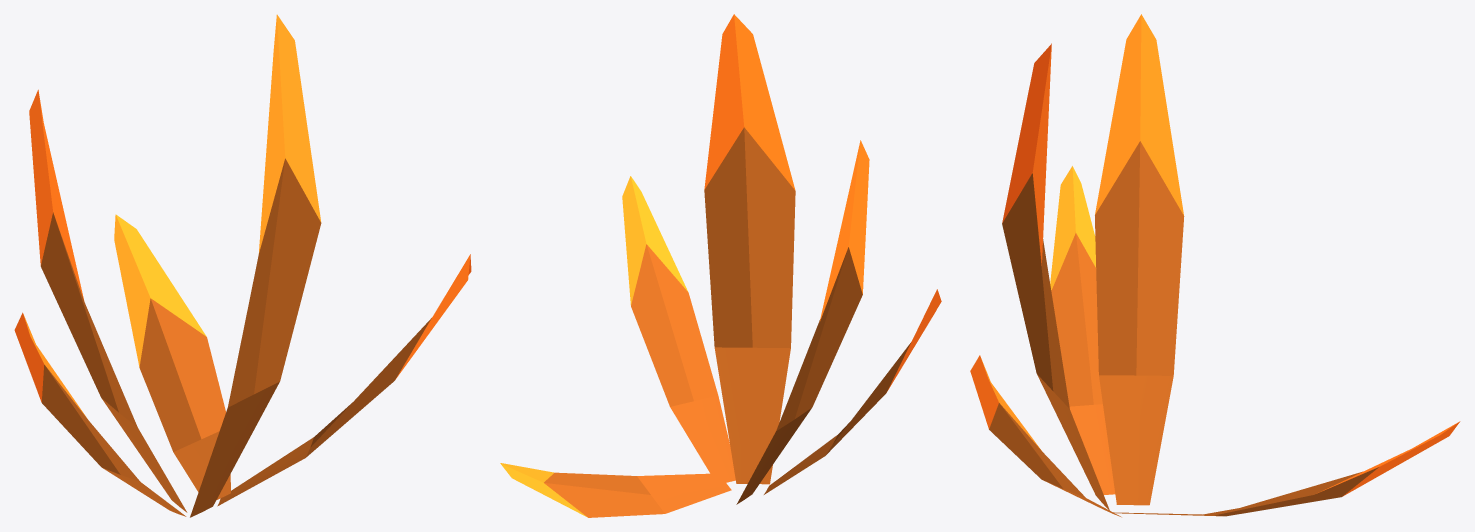
Rendered from scifi_scifi-plant-grass-medium.fbx.
3 views of the same model, side by side, from view 1: azimuth 30°, elevation 25°; view 2: azimuth 150°, elevation 25°; view 3: azimuth 270°, elevation 25° (orthographic). The views are drawn at different scales.
Visible parts, largest first — view 1: scifi_scifi_plant_grass_medium; view 2: scifi_scifi_plant_grass_medium; view 3: scifi_scifi_plant_grass_medium.
Part boxes in pixels (x1=…): scifi_scifi_plant_grass_medium: x1=14, y1=14, x2=471, y2=517; scifi_scifi_plant_grass_medium: x1=500, y1=14, x2=941, y2=517; scifi_scifi_plant_grass_medium: x1=970, y1=14, x2=1460, y2=517.
Size of the model in its own units: 167 by 200 by 182.
